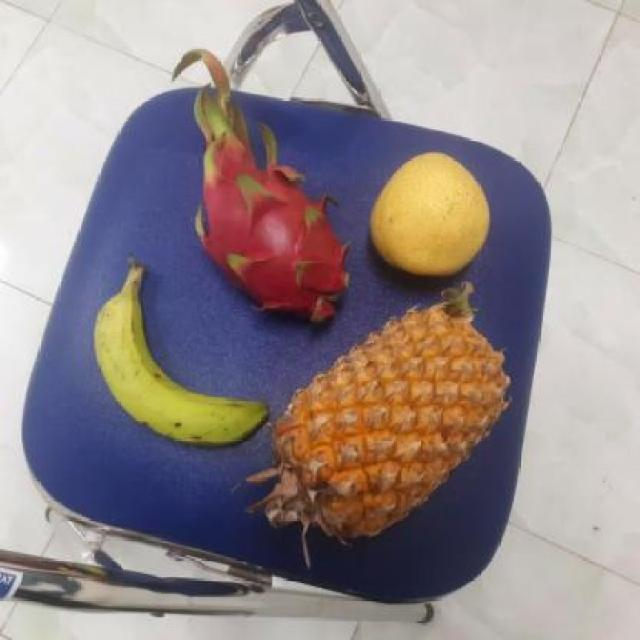banana: (89, 267, 266, 448)
dragon fruit: (197, 154, 351, 323)
pear: (365, 154, 489, 281)
pineapple: (258, 301, 497, 539)
